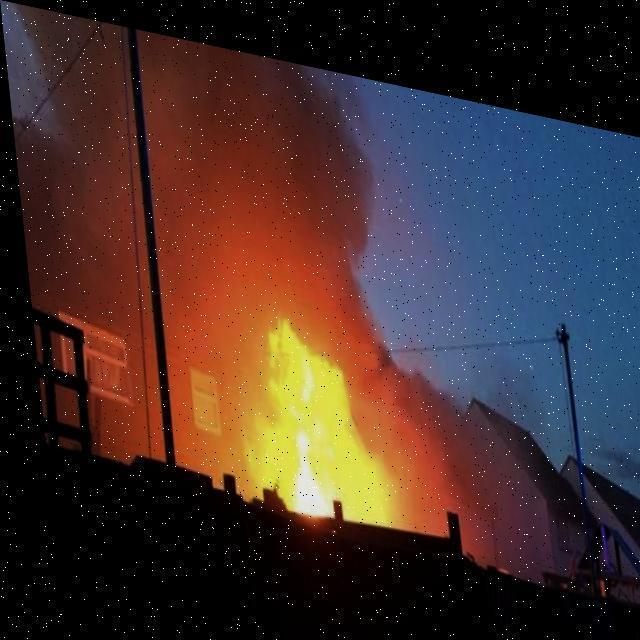Fire: (220, 293, 390, 519)
